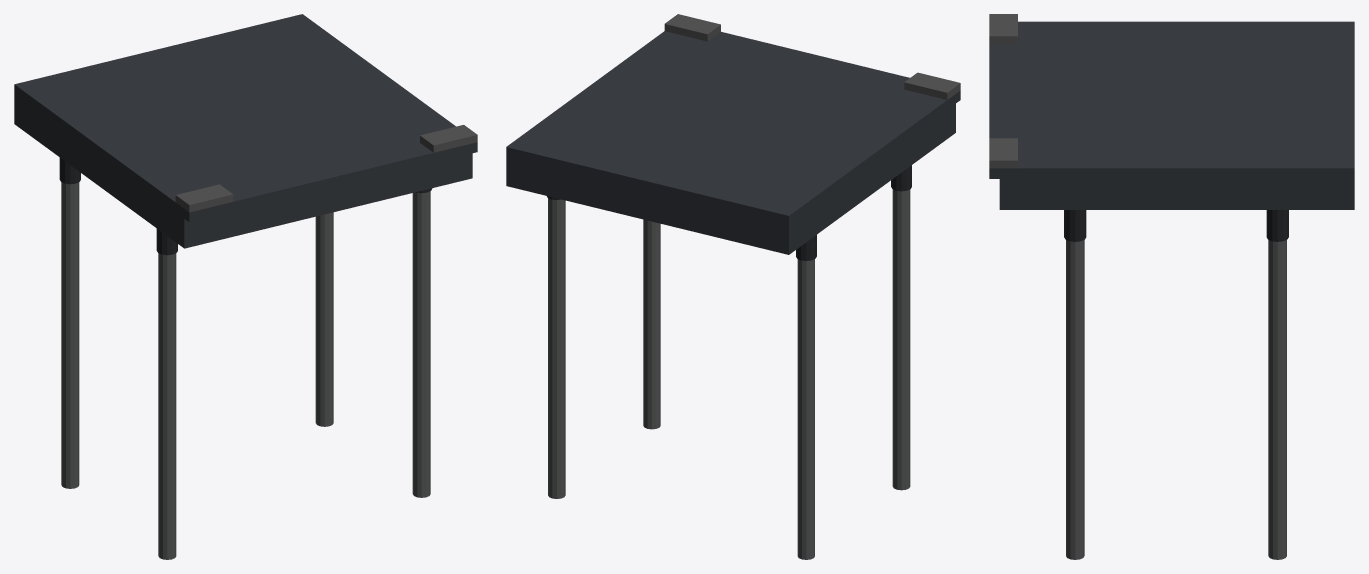
Rendered from PortGround_4.fbx.
The picture shows the model from 3 angles, left to right: view 1: azimuth 30°, elevation 25°; view 2: azimuth 150°, elevation 25°; view 3: azimuth 270°, elevation 25°; orthographic projection. The views are drawn at different scales.
Parts seen in each view (by area): view 1: PortGround_4; view 2: PortGround_4; view 3: PortGround_4.
Part boxes in pixels (bbox=[...]): PortGround_4: bbox=[14, 14, 477, 559]; PortGround_4: bbox=[506, 14, 960, 559]; PortGround_4: bbox=[989, 14, 1354, 559].
Bounding box in the file's own units: 1516 × 1940 × 1595.
